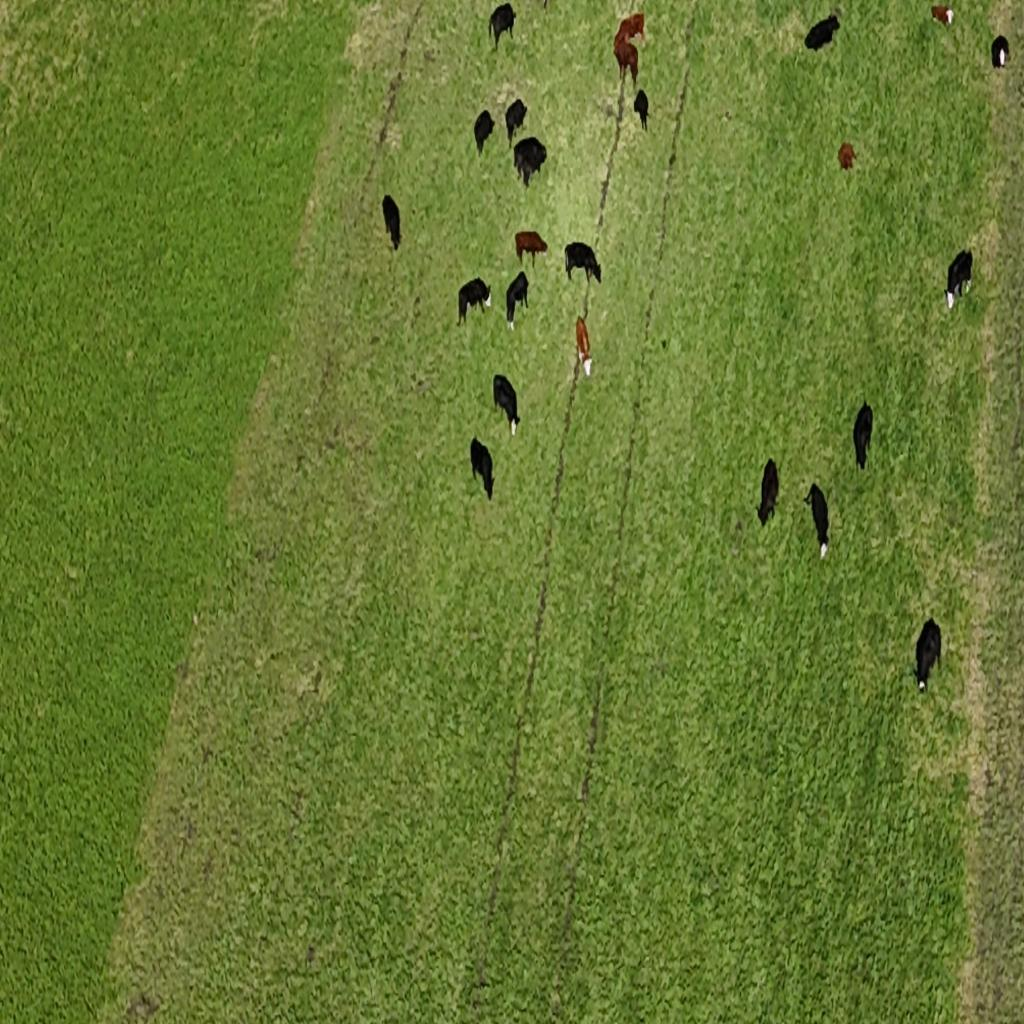cow: (803, 479, 831, 561), (914, 616, 942, 694), (942, 246, 974, 308), (493, 370, 521, 438), (456, 278, 492, 330), (512, 136, 548, 188), (470, 432, 495, 500), (758, 457, 780, 531), (852, 399, 874, 473), (564, 242, 600, 286), (804, 13, 840, 52), (506, 271, 529, 330), (515, 230, 548, 270), (488, 1, 516, 47), (504, 97, 528, 146), (382, 193, 402, 251), (474, 108, 496, 157), (576, 315, 592, 379), (615, 40, 638, 84), (616, 12, 646, 40), (990, 33, 1010, 71), (634, 86, 650, 132), (931, 4, 955, 26), (838, 142, 856, 171)
